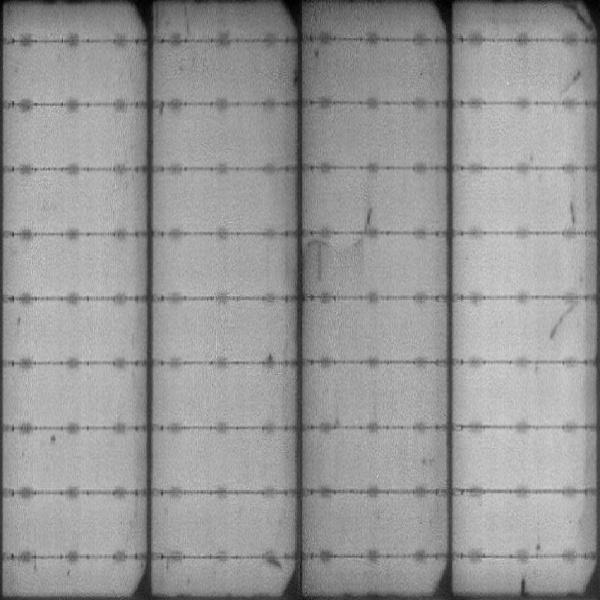scratch: (546, 301, 581, 335), (309, 236, 329, 280), (567, 199, 580, 227), (518, 575, 531, 595)
